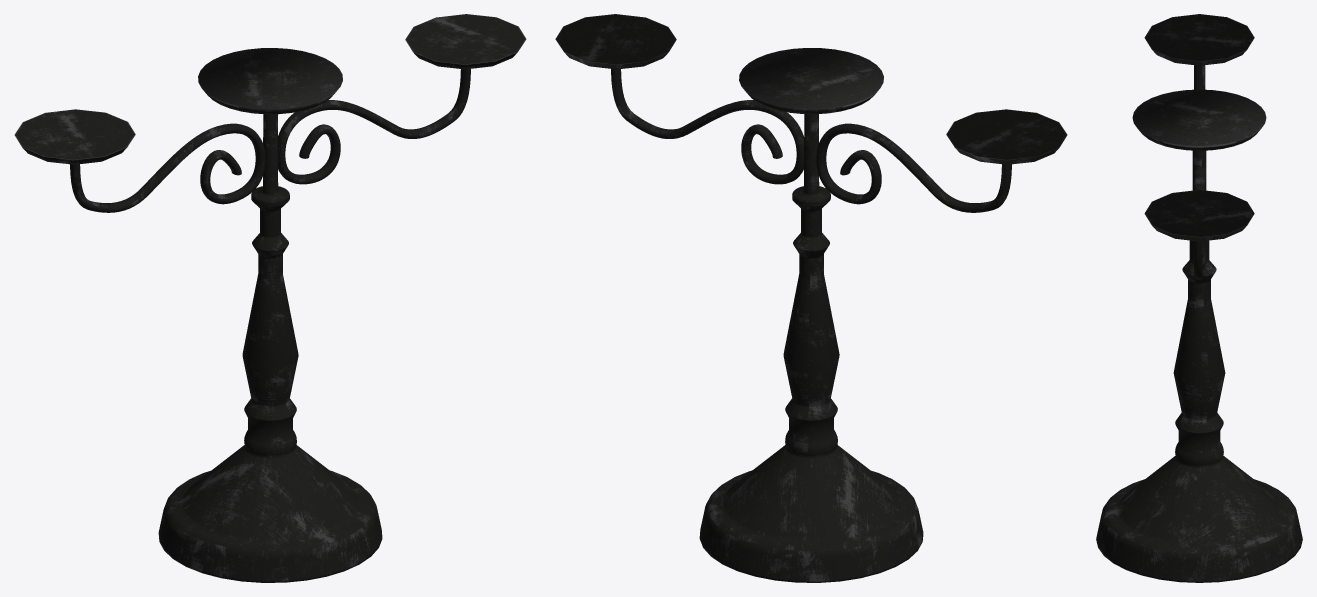
Rendered from CANDLE HOLDER 1.fbx.
3 views of the same model, side by side, from view 1: azimuth 30°, elevation 25°; view 2: azimuth 150°, elevation 25°; view 3: azimuth 270°, elevation 25° (orthographic). The views are drawn at different scales.
Visible parts, largest first — view 1: CANDLE HOLDER 1; view 2: CANDLE HOLDER 1; view 3: CANDLE HOLDER 1.
Part boxes in pixels (<box>): CANDLE HOLDER 1: <box>14,14,526,582</box>; CANDLE HOLDER 1: <box>555,14,1067,582</box>; CANDLE HOLDER 1: <box>1096,14,1302,582</box>.
Bounding box in the file's own units: 0.9632 × 0.377 × 0.8475.
